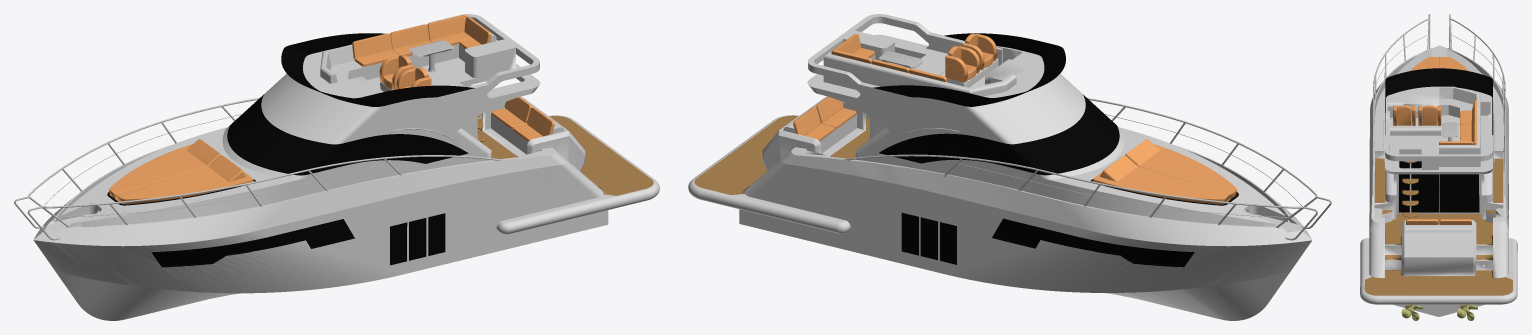
The model's file is BigBoat.fbx.
The picture shows the model from 3 angles, left to right: view 1: azimuth 30°, elevation 25°; view 2: azimuth 150°, elevation 25°; view 3: azimuth 270°, elevation 25°; orthographic projection. The views are drawn at different scales.
Parts seen in each view (by area): view 1: Boat; view 2: Boat; view 3: Boat, BladeL.001, BladeL.002.
Boxes of the visible parts, <box> form: Boat: <box>14,14,659,320</box>; Boat: <box>688,14,1331,320</box>; Boat: <box>1360,14,1517,316</box>; BladeL.001: <box>1401,304,1422,320</box>; BladeL.002: <box>1457,304,1477,320</box>.
Size of the model in its own units: 1194 by 386 by 364.
